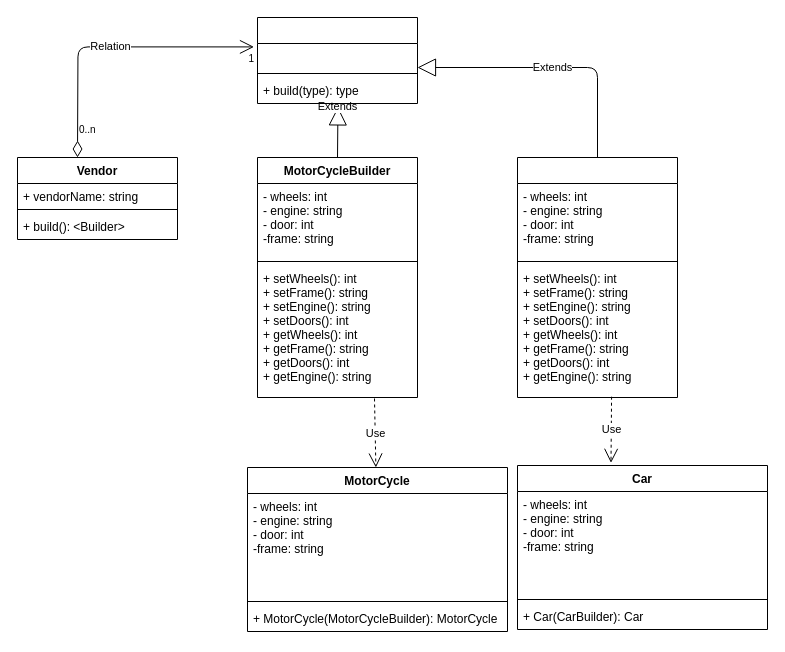
Image size: 785x652. Some labels were removed from this diagram. Here are the shapes that lost their labels. From the top down, the box of each, then its label:
(256, 16, 418, 104): AbstractBuilder
(516, 156, 678, 398): CarBuilder
